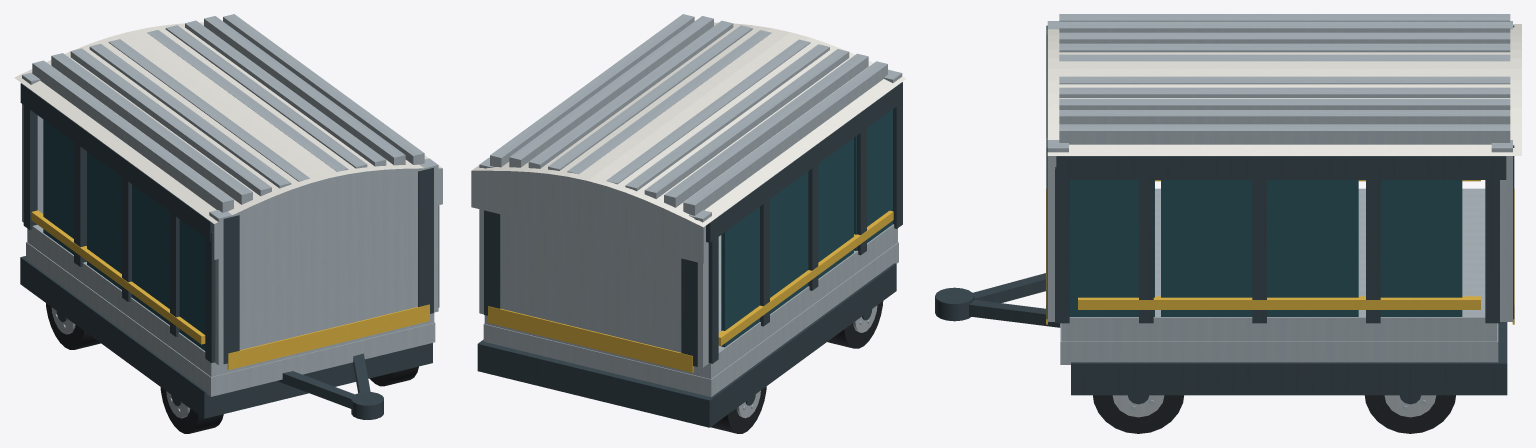
Rendered from vehicle_baggage_cart.glb.
3 renders of one model, left to right at view 1: azimuth 30°, elevation 25°; view 2: azimuth 150°, elevation 25°; view 3: azimuth 270°, elevation 25°, orthographic. The views are drawn at different scales.
Parts seen in each view (by area): view 1: vehicle_baggage_cart; view 2: vehicle_baggage_cart; view 3: vehicle_baggage_cart.
Part boxes in pixels (x1=…): vehicle_baggage_cart: x1=14, y1=14, x2=442, y2=433; vehicle_baggage_cart: x1=471, y1=14, x2=906, y2=433; vehicle_baggage_cart: x1=935, y1=14, x2=1521, y2=433.
Bounding box in the file's own units: 1.6 × 1.7 × 3.
7 materials, 7 textured.
